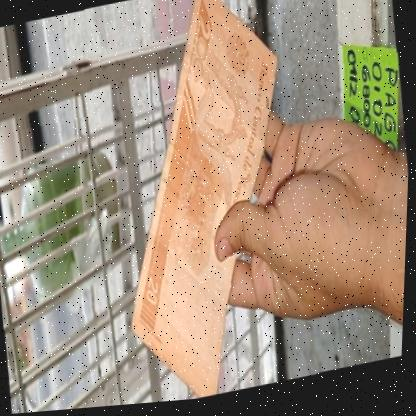twenty-back-vef: (90, 0, 319, 409)
